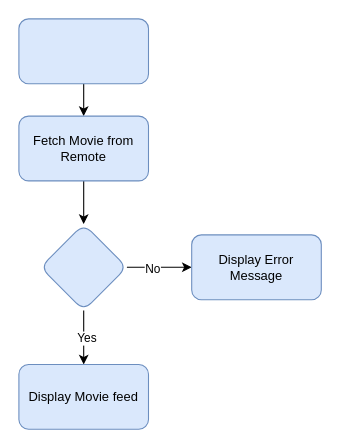
The diagram is 340 pixels wide and 448 high, and some of its shapes have lost their labels. Here are the shapes that lost their labels. From the top down, the centre of each, then its label:
At [83,51]: "Show Movie List screen".
At [83,266]: "Success".
